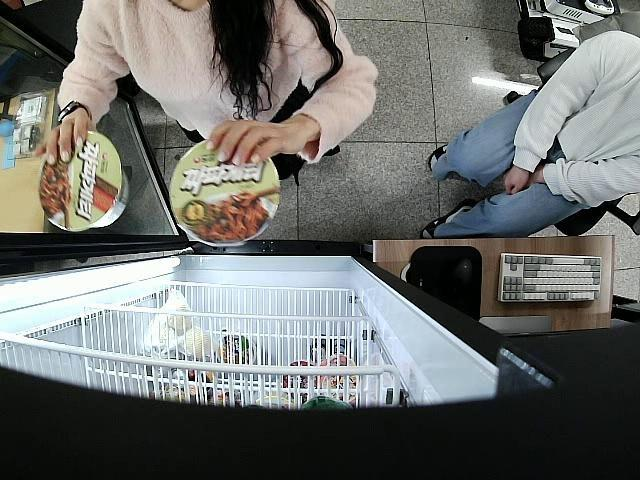03_chapagetti_L: (168, 140, 280, 246), (40, 130, 130, 236)
